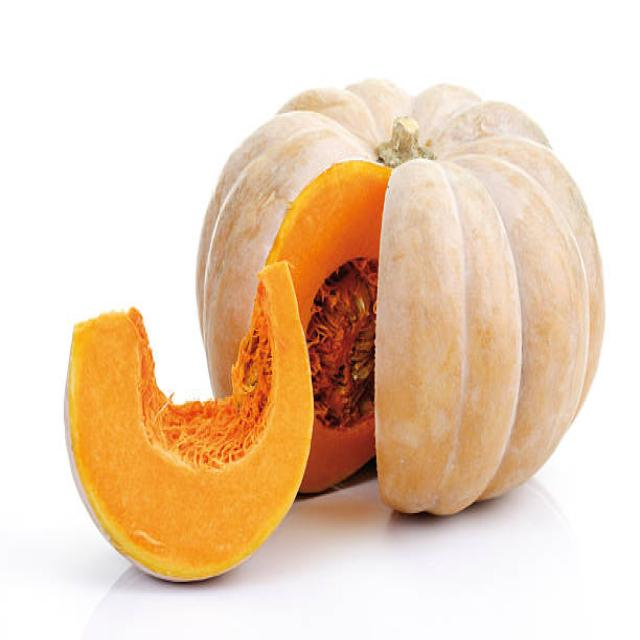pumpkin: (66, 262, 314, 580)
